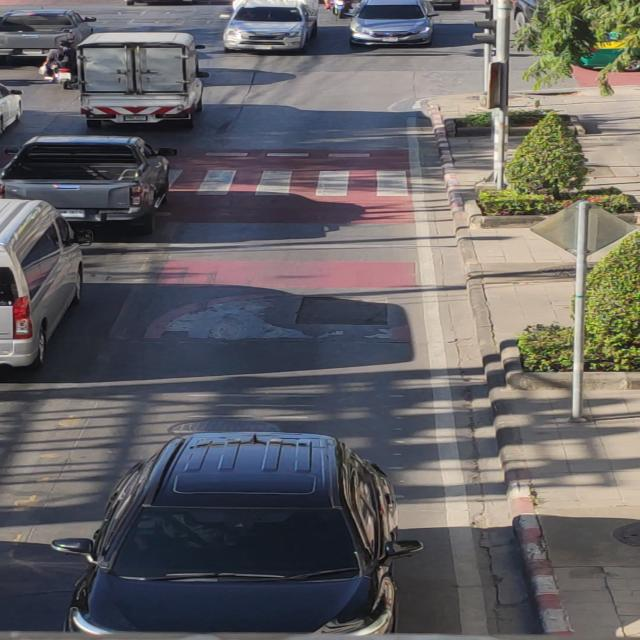car: (51, 425, 426, 630)
